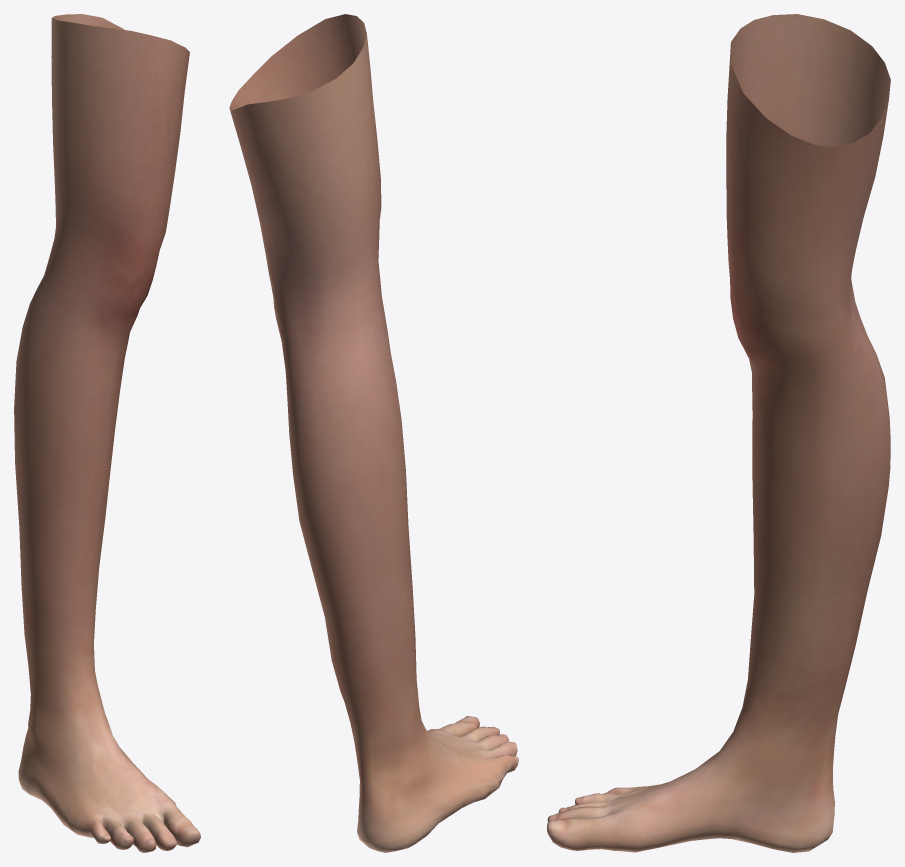
The model's file is PiernaDerecha.obj.
3 renders of one model, left to right at view 1: azimuth 30°, elevation 25°; view 2: azimuth 150°, elevation 25°; view 3: azimuth 270°, elevation 25°, orthographic. The views are drawn at different scales.
Visible parts, largest first — view 1: red_woman-base; view 2: red_woman-base; view 3: red_woman-base.
Boxes of the visible parts, x1,y1,x2,y2 form: red_woman-base: [14, 14, 200, 852]; red_woman-base: [229, 14, 518, 852]; red_woman-base: [547, 14, 890, 852].
Bounding box in the file's own units: 2.05 × 8.4 × 3.09.
